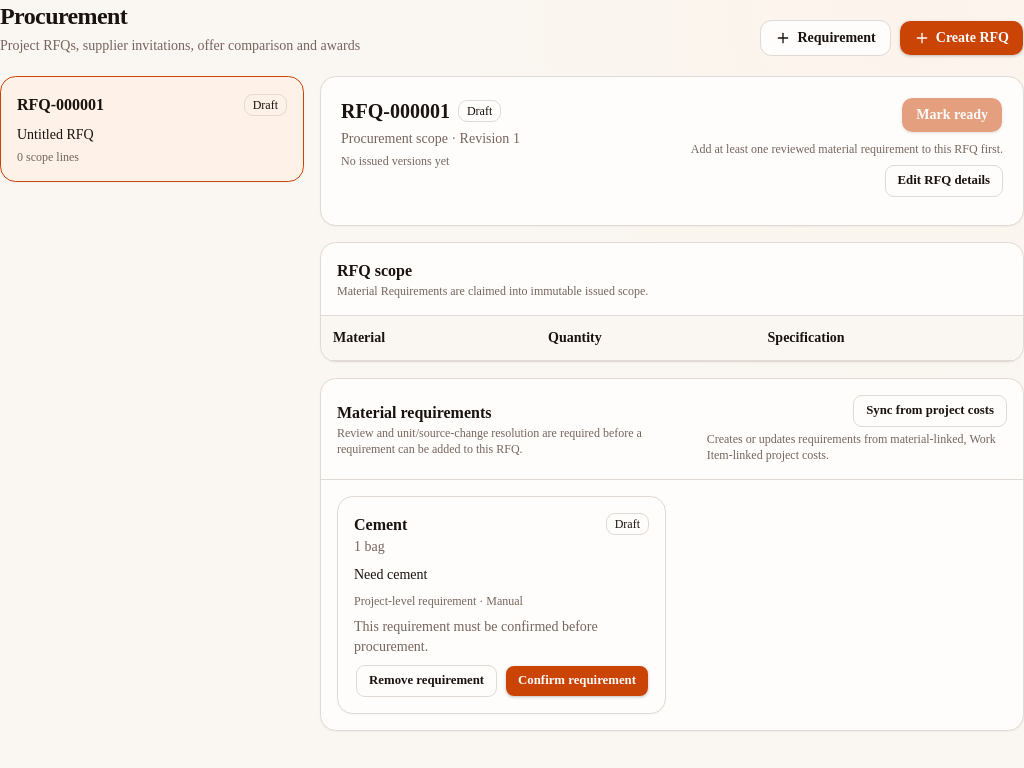
Test case: ProjectProcurement state-aware requirement cards › Remove -> Delete permanently -> after mocked success and awaited refetch, the requirement is gone entirely
This screenshot has width=1024, height=768.
Step 1. Click the button "Remove requirement" → (427, 681), box [356, 665, 497, 697]
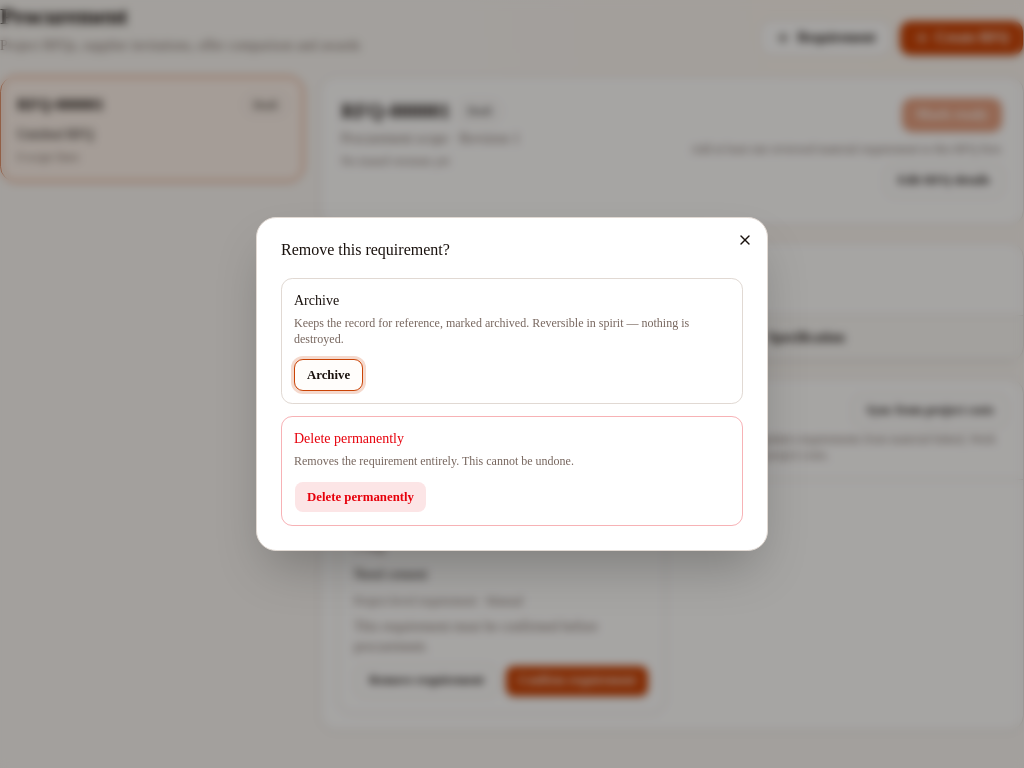
Step 2. Click the button "Delete permanently" → (360, 497), box [294, 481, 427, 513]
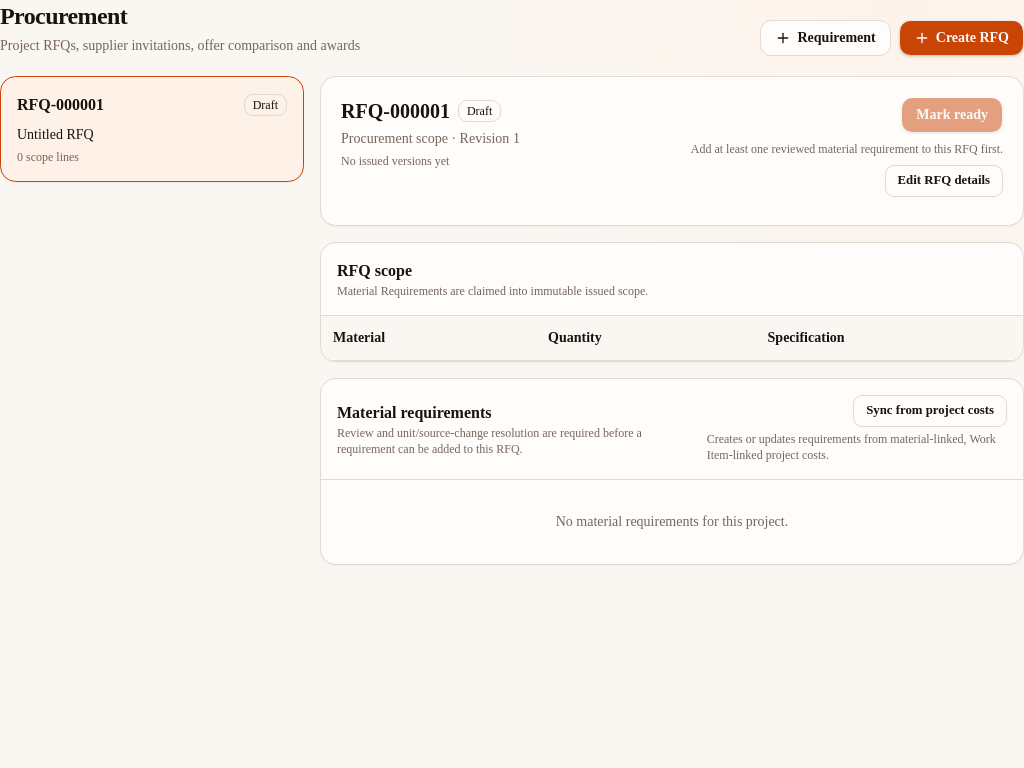
Now the button "Remove requirement" is gone
Now the heading "Cement" is gone
